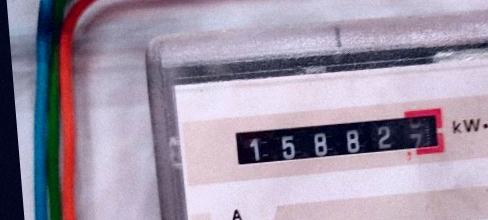1: (247, 132, 262, 162)
2: (374, 123, 393, 150)
5: (278, 131, 297, 163)
7: (407, 129, 422, 147)
8: (310, 129, 328, 158), (343, 125, 361, 154)
screen: (222, 98, 452, 177)
